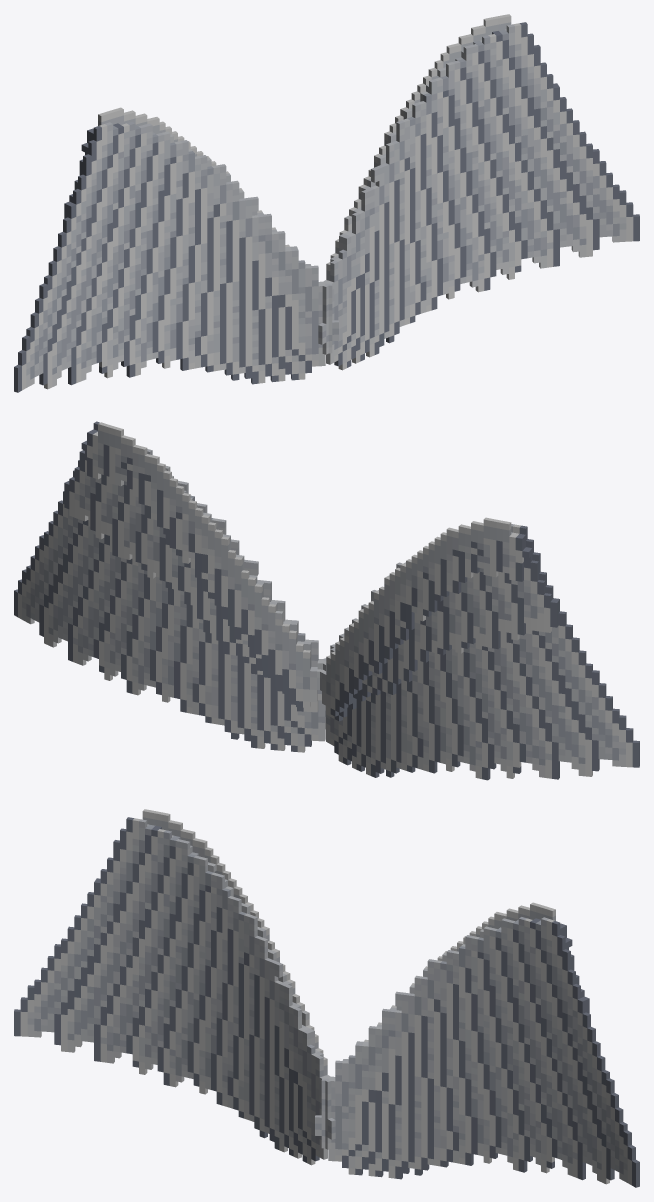
The model's file is seraph_wings.glb.
3 renders of one model, top to bottom at view 1: azimuth 30°, elevation 25°; view 2: azimuth 150°, elevation 25°; view 3: azimuth 330°, elevation 25°, orthographic.
Visible parts, largest first — view 1: Feathers.R, Feathers.L; view 2: Feathers.L, Feathers.R; view 3: Feathers.L, Feathers.R.
Part boxes in pixels (x1,y1,x2,y2): Feathers.R: [318, 14, 639, 370]; Feathers.L: [14, 107, 338, 392]; Feathers.L: [318, 517, 639, 780]; Feathers.R: [14, 421, 325, 752]; Feathers.L: [14, 809, 335, 1165]; Feathers.R: [315, 902, 639, 1187].
Size of the model in its own units: 3.32 by 1.5 by 0.2663.
